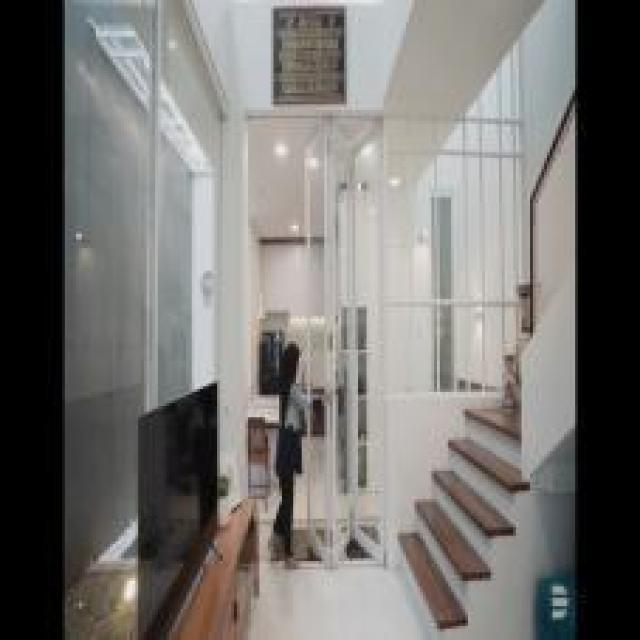upstair: (399, 399, 528, 638)
